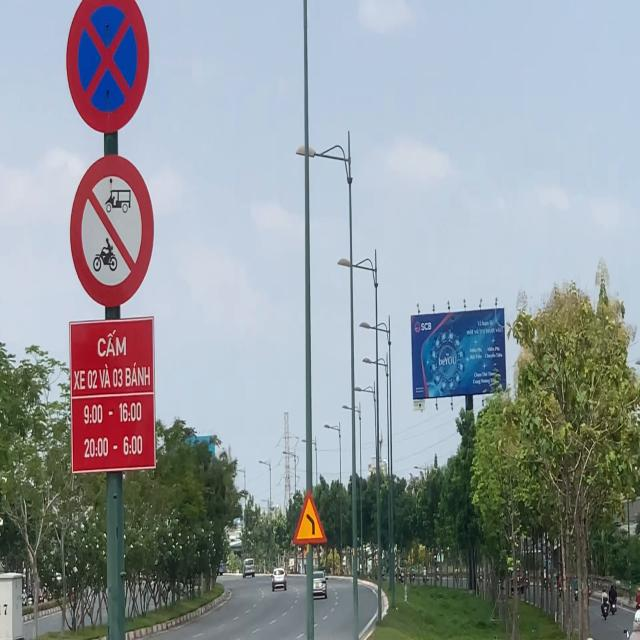Cam con lai: (66, 155, 154, 311)
Cam dung va do: (66, 0, 150, 134)
Nguy hiem: (292, 489, 328, 545)
